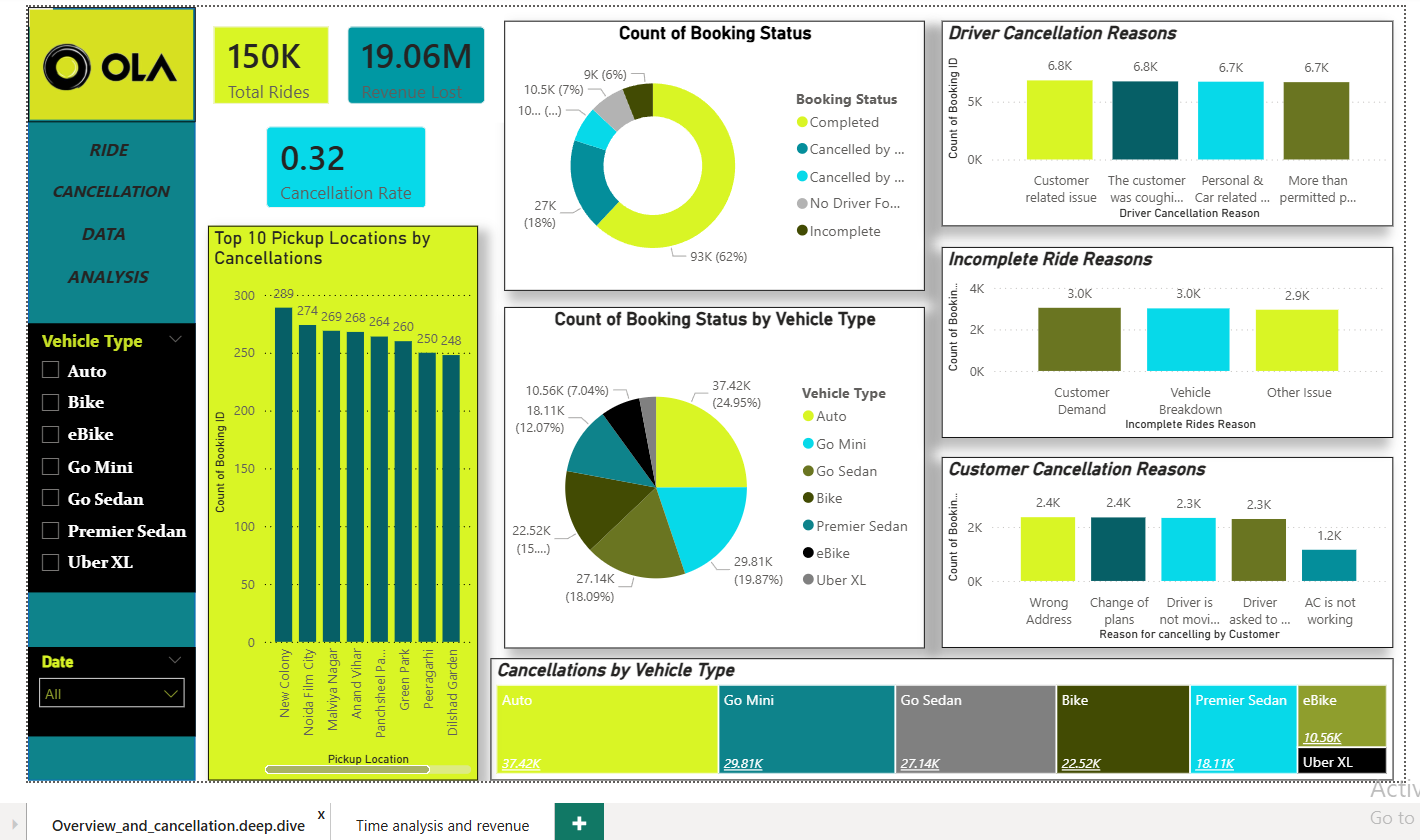

Layout of this report page (visuals, bound fields, positions):
{"tool":"powerbi","page":{"name":"Overview_and_cancellation.deep.dive","canvas":[1280,720],"ordinal":0},"visuals":[{"type":"donutChart","title":"Count of Booking Status","fields":{"Category":["ncr_ride_bookings.Booking Status"],"Y":["CountNonNull(ncr_ride_bookings.Booking Status)"]},"box":[442.5,12.5,391.2,251.2],"z":0},{"type":"shape","box":[0,1.4,155.7,718.6],"z":1000},{"type":"cardVisual","fields":{"Data":["ncr_ride_bookings.Total Rides"]},"box":[0,0,23,18],"z":2000},{"type":"cardVisual","fields":{"Data":["ncr_ride_bookings.Cancellation Rate"]},"box":[205,93.8,183.8,110],"z":3000},{"type":"cardVisual","fields":{"Data":["ncr_ride_bookings.Revenue Lost"]},"box":[280,1.2,162.5,106.2],"z":4000},{"type":"pieChart","fields":{"Category":["ncr_ride_bookings.Vehicle Type"],"Y":["CountNonNull(ncr_ride_bookings.Booking Status)"]},"box":[442.5,278.8,391.2,317.5],"z":5000},{"type":"slicer","fields":{"Values":["ncr_ride_bookings.Date"]},"box":[0,595.7,155.7,82.9],"z":6000},{"type":"slicer","fields":{"Values":["ncr_ride_bookings.Vehicle Type"]},"box":[0,293.8,156.2,250],"z":7000},{"type":"clusteredColumnChart","title":"Customer Cancellation Reasons","fields":{"Category":["ncr_ride_bookings.Reason for cancelling by Customer"],"Y":["CountNonNull(ncr_ride_bookings.Booking ID)"]},"box":[850,418.8,420,177.5],"z":8000},{"type":"cardVisual","fields":{"Data":["ncr_ride_bookings.Total Rides"]},"box":[156.2,1.2,141.2,106.2],"z":9000},{"type":"clusteredColumnChart","title":"Driver Cancellation Reasons","fields":{"Category":["ncr_ride_bookings.Driver Cancellation Reason"],"Y":["CountNonNull(ncr_ride_bookings.Booking ID)"]},"box":[850,12.5,420,191.2],"z":10000},{"type":"clusteredColumnChart","title":"Incomplete Ride Reasons","fields":{"Category":["ncr_ride_bookings.Incomplete Rides Reason"],"Y":["CountNonNull(ncr_ride_bookings.Booking ID)"]},"box":[850,223.8,420,177.5],"z":11000},{"type":"treemap","title":"Cancellations by Vehicle Type","fields":{"Group":["ncr_ride_bookings.Vehicle Type"],"Values":["CountNonNull(ncr_ride_bookings.Booking ID)"]},"box":[430,606.2,840,113.8],"z":12000},{"type":"image","box":[0,0,155.7,107.1],"z":13000},{"type":"textbox","box":[200,437.1,188.6,35.7],"z":14000},{"type":"clusteredColumnChart","title":"Top 10 Pickup Locations by Cancellations","fields":{"Category":["ncr_ride_bookings.Pickup Location"],"Y":["CountNonNull(ncr_ride_bookings.Booking ID)"]},"box":[171.4,203.6,251.2,516.7],"z":15000},{"type":"textbox","box":[8.8,116.2,137.5,160],"z":16000}]}

Visuals, with their boxes in screenshot pixels (x1, y1, x2, y2):
"Count of Booking Status" donutChart: 489:28:902:293
shape: 22:16:186:775
cardVisual - ncr_ride_bookings.Total Rides: 22:15:46:34
cardVisual - ncr_ride_bookings.Cancellation Rate: 239:114:432:230
cardVisual - ncr_ride_bookings.Revenue Lost: 318:16:489:128
pieChart - ncr_ride_bookings.Vehicle Type x CountNonNull(ncr_ride_bookings.Booking Status): 489:309:902:644
slicer - ncr_ride_bookings.Date: 22:643:186:731
slicer - ncr_ride_bookings.Vehicle Type: 22:325:187:589
"Customer Cancellation Reasons" clusteredColumnChart: 919:457:1362:644
cardVisual - ncr_ride_bookings.Total Rides: 187:16:336:128
"Driver Cancellation Reasons" clusteredColumnChart: 919:28:1362:230
"Incomplete Ride Reasons" clusteredColumnChart: 919:251:1362:438
"Cancellations by Vehicle Type" treemap: 476:654:1362:775
image: 22:15:186:128
textbox: 233:476:432:514
"Top 10 Pickup Locations by Cancellations" clusteredColumnChart: 203:230:468:775
textbox: 31:137:177:306
